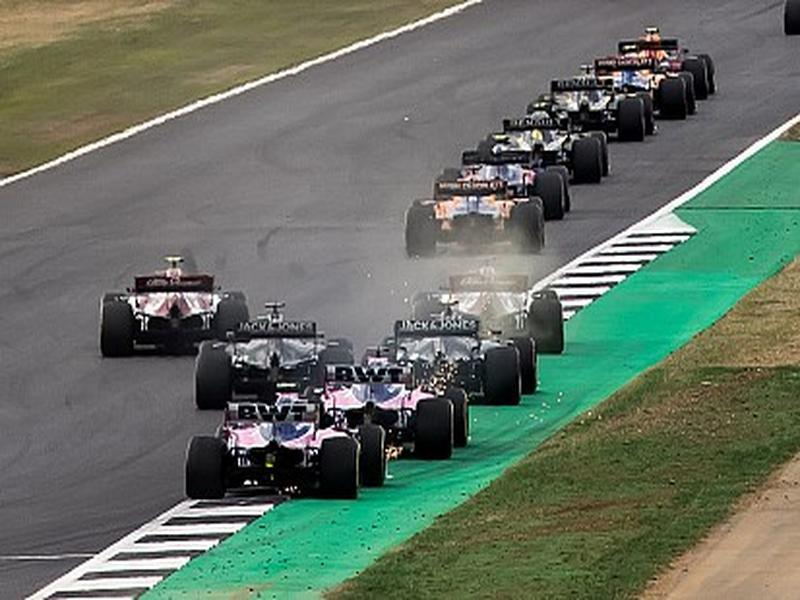f1: (184, 383, 391, 506), (99, 247, 255, 354), (356, 320, 551, 403), (415, 259, 577, 354), (403, 164, 554, 251), (433, 127, 579, 213), (545, 69, 699, 141), (493, 103, 629, 177), (611, 20, 726, 96), (583, 42, 717, 105)
